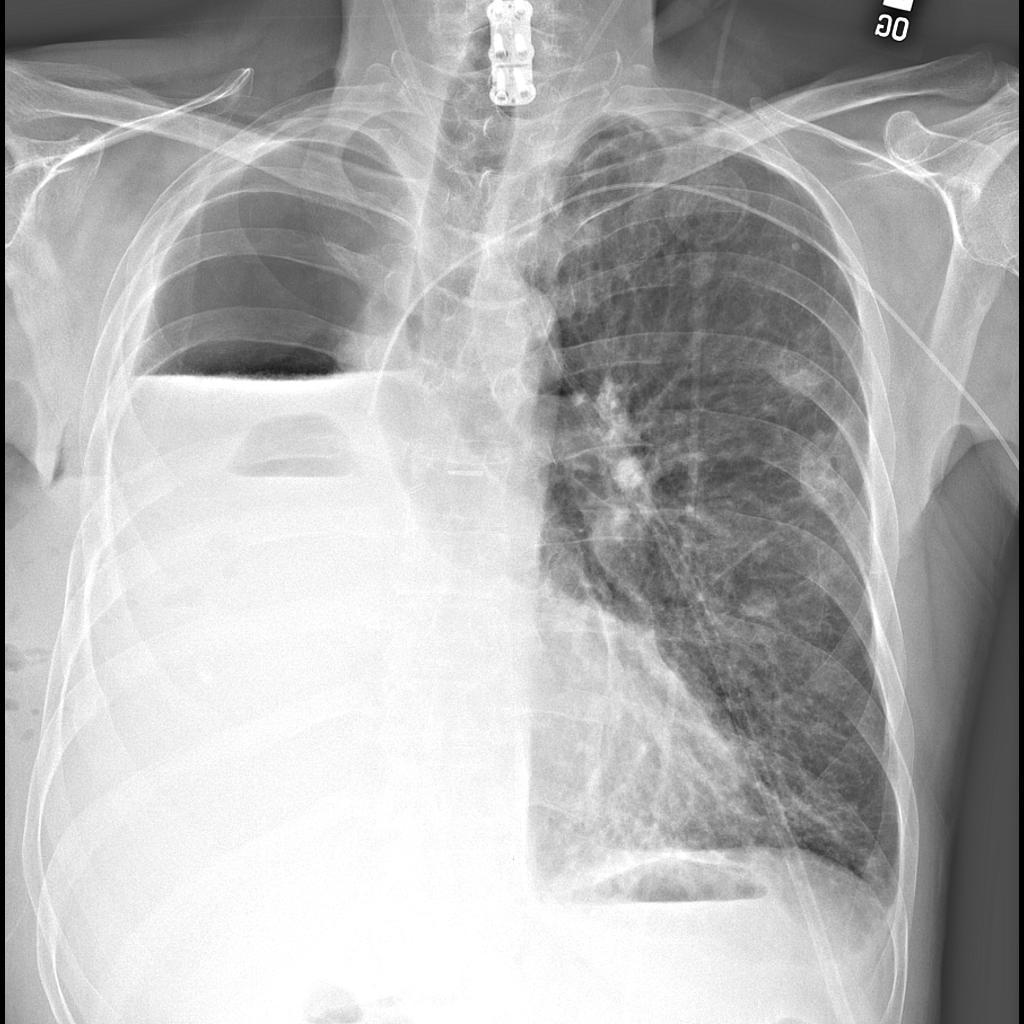Nodule: (786, 442, 851, 514), (775, 357, 825, 412), (733, 585, 787, 633)
